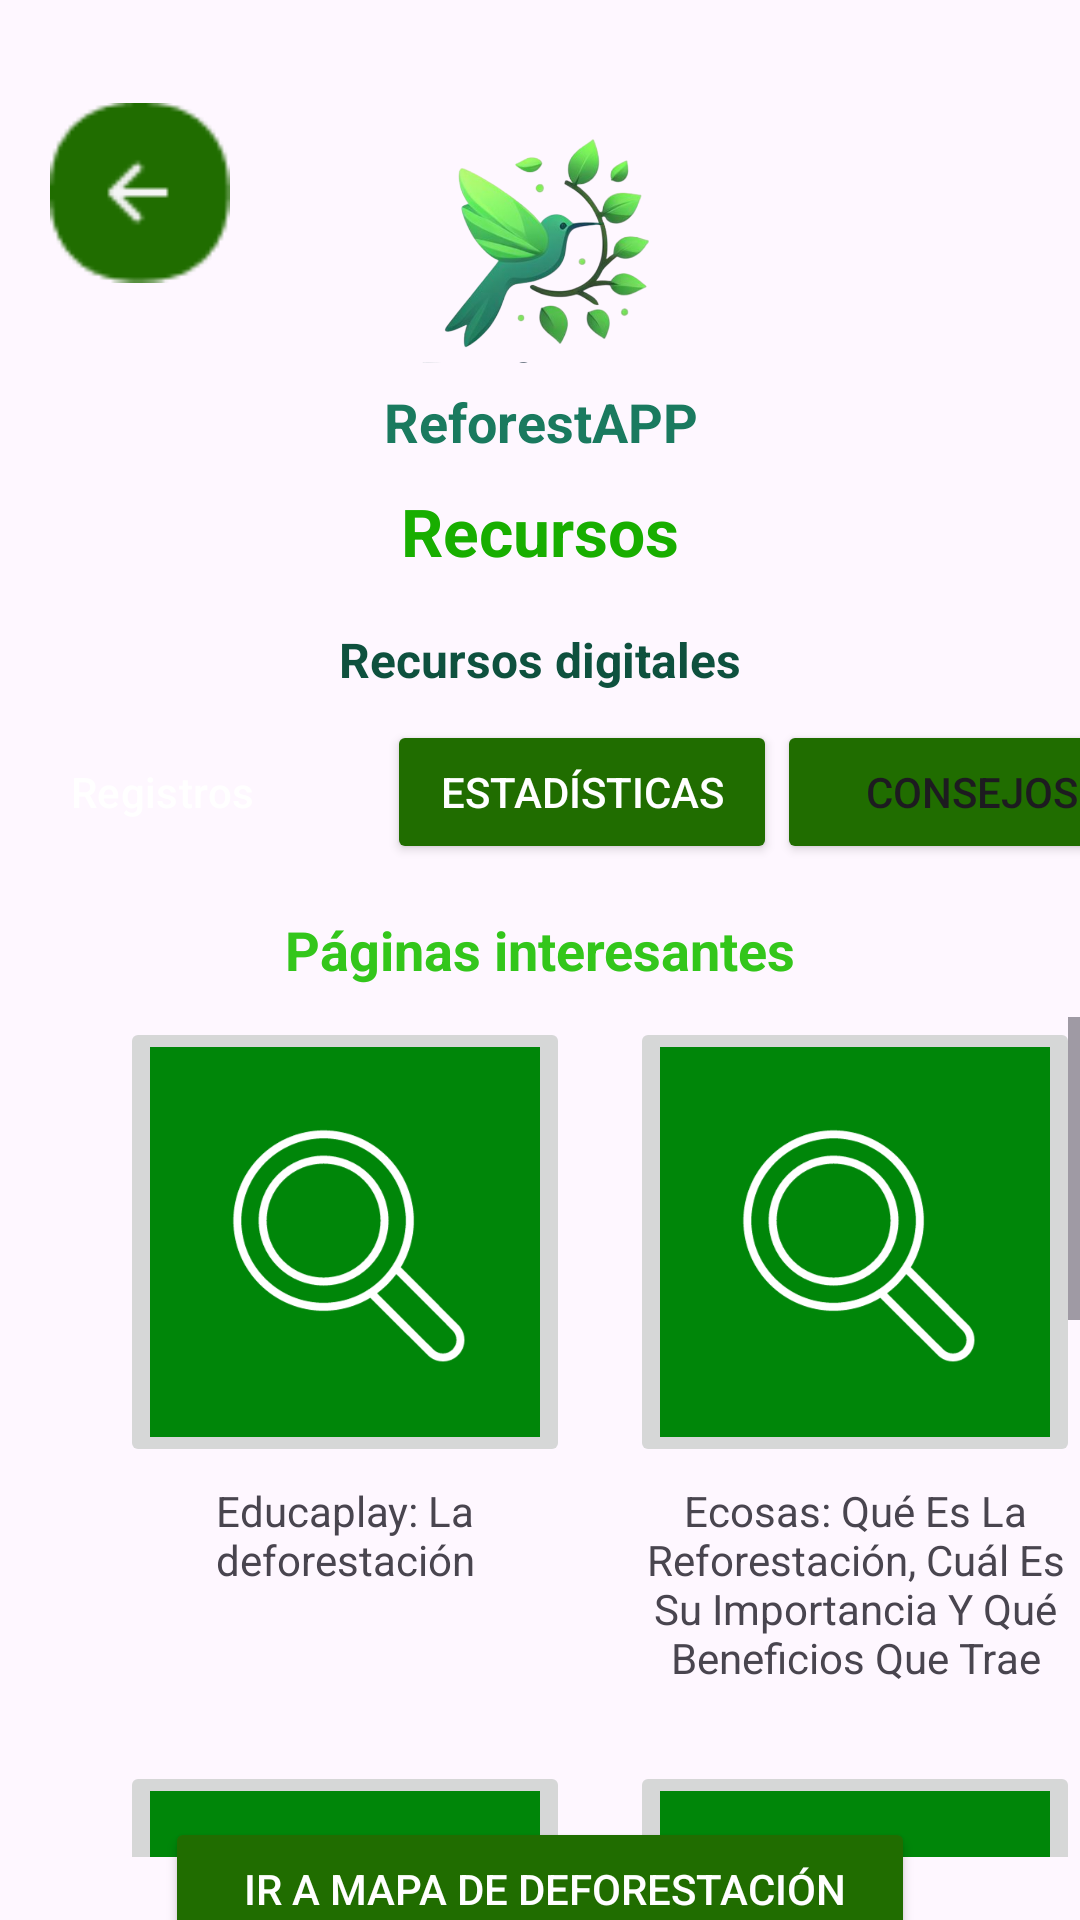

Icon bounding boxes for this 1080 x 1920 phone screenshot, format Rect(x1, y1, x2, y2):
boton de salida: Rect(50, 103, 230, 283)
